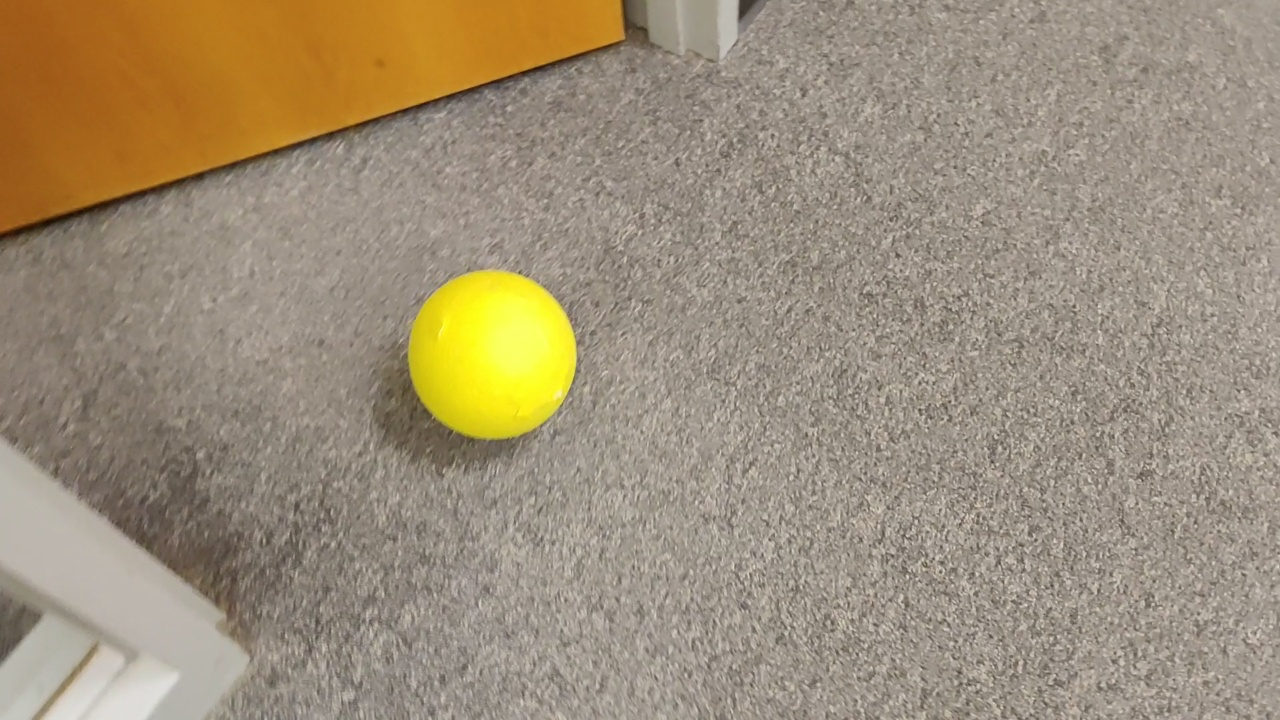Ball: (399, 268, 581, 444)
